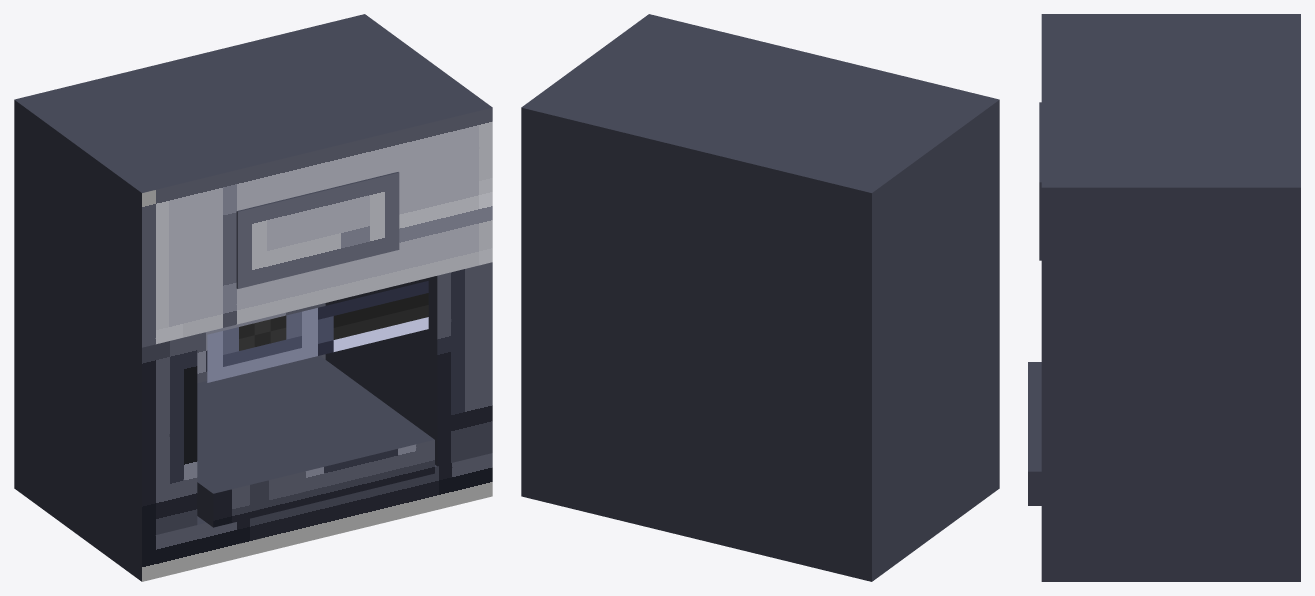
The model's file is drone_shell_dispenser.glb.
3 renders of one model, left to right at view 1: azimuth 30°, elevation 25°; view 2: azimuth 150°, elevation 25°; view 3: azimuth 270°, elevation 25°, orthographic.
Visible parts, largest first — view 1: Dispenser_Housing, Output_Tray, Material_Hatch, Production_Display; view 2: Dispenser_Housing; view 3: Dispenser_Housing, Output_Tray, Material_Hatch.
Boxes of the visible parts, x1,y1,x2,y2 form: Dispenser_Housing: [14, 14, 492, 581]; Output_Tray: [197, 355, 434, 527]; Material_Hatch: [236, 172, 399, 288]; Production_Display: [207, 281, 428, 382]; Dispenser_Housing: [521, 14, 999, 581]; Dispenser_Housing: [1041, 14, 1300, 581]; Output_Tray: [1028, 362, 1041, 505]; Material_Hatch: [1039, 102, 1041, 260].
Size of the model in its own units: 1.52 by 1.61 by 1.01.
Materials: 2 (2 with a texture image).
